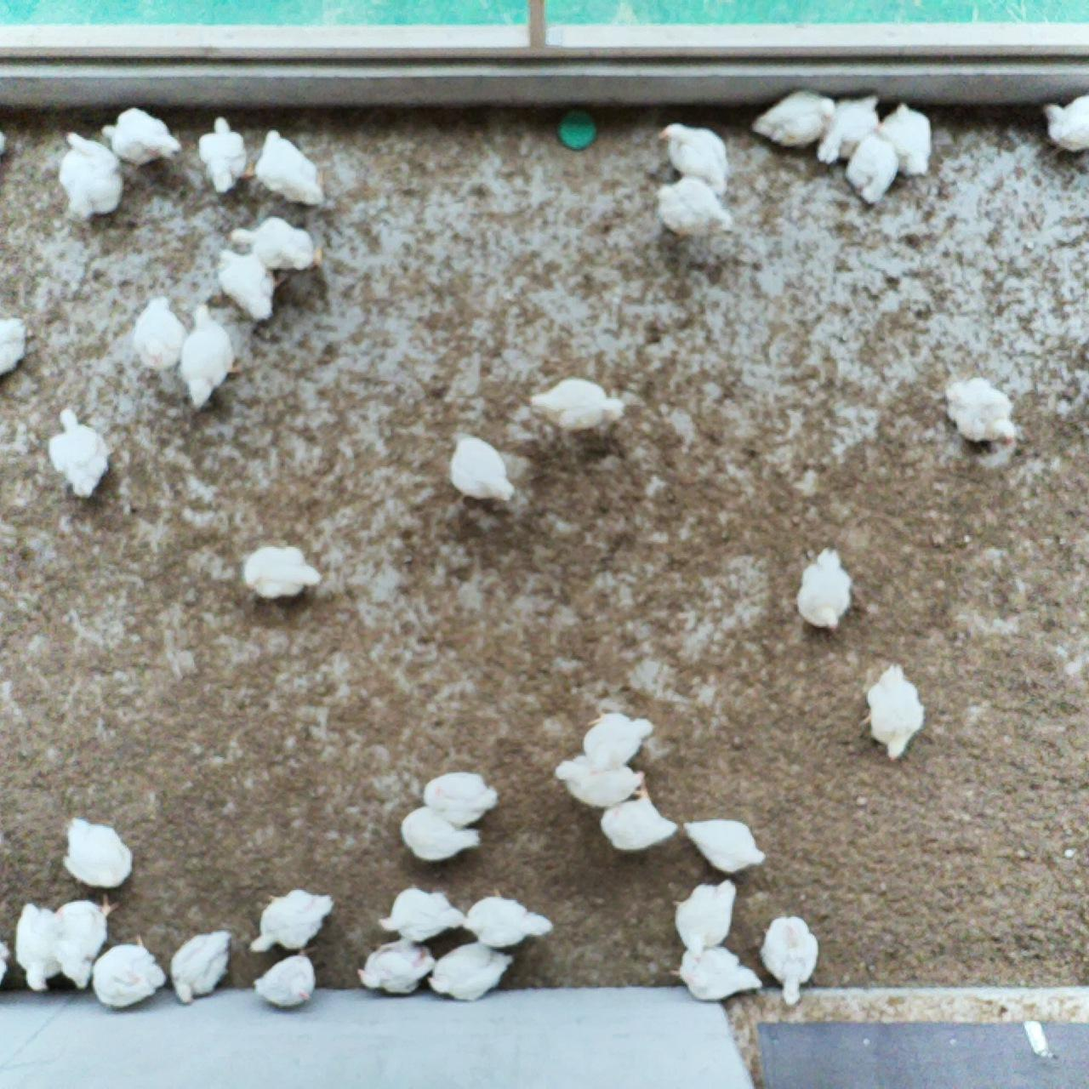chicken: (856, 666, 929, 767), (52, 891, 128, 986), (525, 371, 629, 438), (178, 303, 244, 408), (58, 127, 128, 223), (96, 104, 186, 175), (222, 217, 325, 278), (46, 411, 115, 501), (599, 779, 678, 856), (255, 129, 331, 209), (555, 750, 658, 808), (674, 878, 739, 965), (760, 917, 822, 1008), (377, 881, 467, 943), (793, 548, 854, 639), (647, 177, 735, 240), (672, 944, 765, 1003), (90, 934, 166, 1006), (746, 87, 835, 148), (61, 817, 137, 888), (428, 942, 510, 1007), (215, 244, 282, 323), (460, 895, 558, 949), (251, 892, 339, 952), (943, 378, 1018, 448), (660, 120, 734, 190), (446, 432, 515, 507), (169, 928, 239, 1001), (814, 94, 889, 162), (194, 115, 257, 195), (399, 803, 482, 862), (351, 936, 436, 993), (683, 818, 772, 872), (876, 101, 940, 175), (15, 901, 68, 988), (848, 125, 902, 208), (241, 545, 322, 600), (425, 767, 500, 826), (135, 295, 190, 371), (581, 711, 657, 765), (251, 958, 317, 1006), (1043, 93, 1089, 152), (0, 315, 27, 380), (0, 940, 9, 985), (0, 125, 5, 155)
